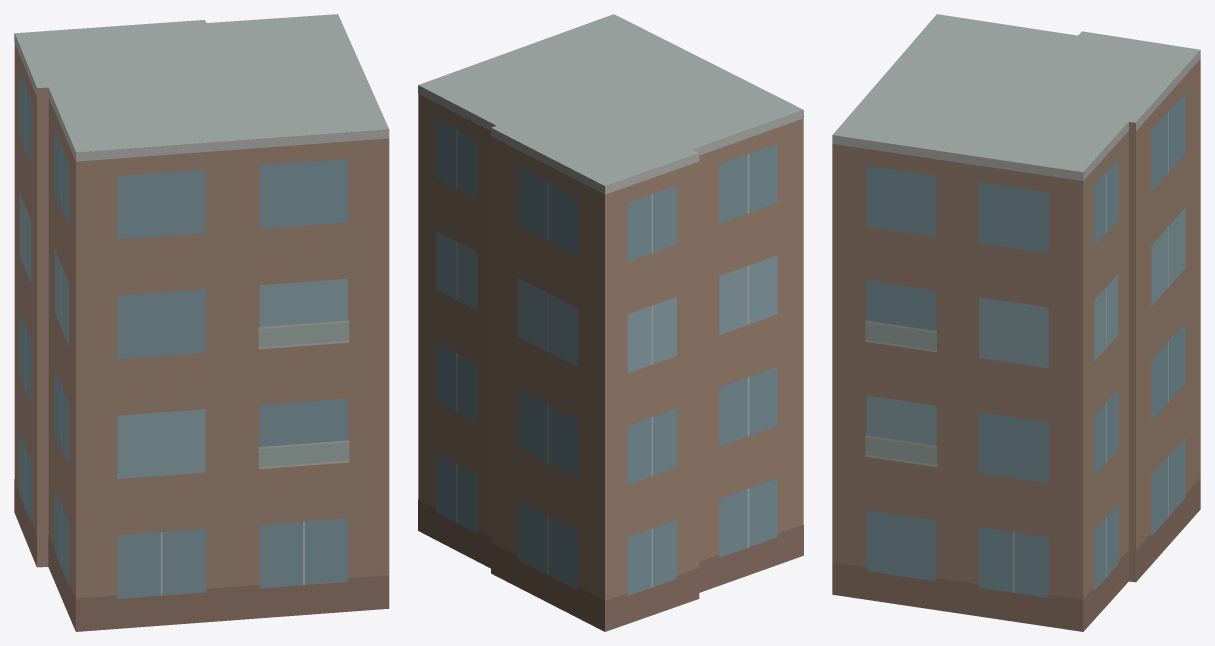
File: survey-upis-32497236.glb
3 views of the same model, side by side, from view 1: azimuth 30°, elevation 25°; view 2: azimuth 150°, elevation 25°; view 3: azimuth 270°, elevation 25° (orthographic). The views are drawn at different scales.
Parts seen in each view (by area): view 1: survey-upis-32497236.tmp; view 2: survey-upis-32497236.tmp; view 3: survey-upis-32497236.tmp.
Part boxes in pixels (<box>): survey-upis-32497236.tmp: <box>14,14,389,631</box>; survey-upis-32497236.tmp: <box>418,14,803,631</box>; survey-upis-32497236.tmp: <box>832,14,1200,631</box>.
Size of the model in its own units: 9.47 by 12.8 by 9.31.
